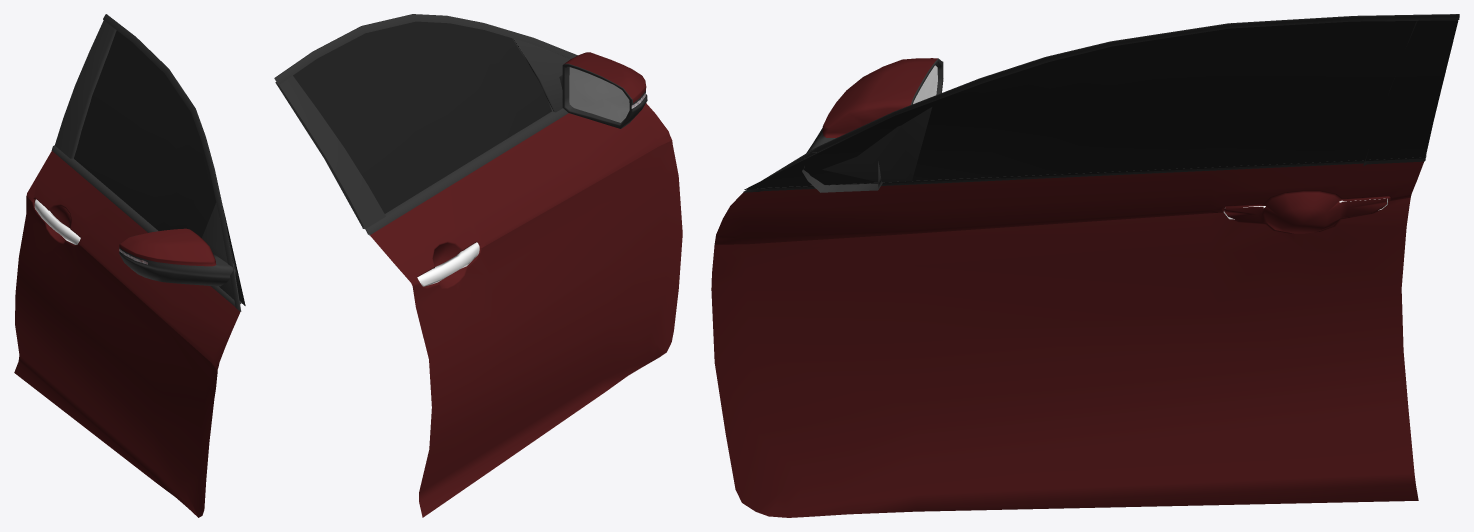
File: Honda_Civic_RF_Door.glb
3 views of the same model, side by side, from view 1: azimuth 30°, elevation 25°; view 2: azimuth 150°, elevation 25°; view 3: azimuth 270°, elevation 25° (orthographic). The views are drawn at different scales.
Visible parts, largest first — view 1: Mesh_Honda_Civic_RF_Door; view 2: Mesh_Honda_Civic_RF_Door; view 3: Mesh_Honda_Civic_RF_Door.
Part boxes in pixels (x1=…): Mesh_Honda_Civic_RF_Door: x1=14, y1=14, x2=245, y2=517; Mesh_Honda_Civic_RF_Door: x1=274, y1=14, x2=682, y2=517; Mesh_Honda_Civic_RF_Door: x1=711, y1=14, x2=1459, y2=517.
Size of the model in its own units: 21.66 by 51.49 by 58.92.
Materials: 5 (1 with a texture image).
